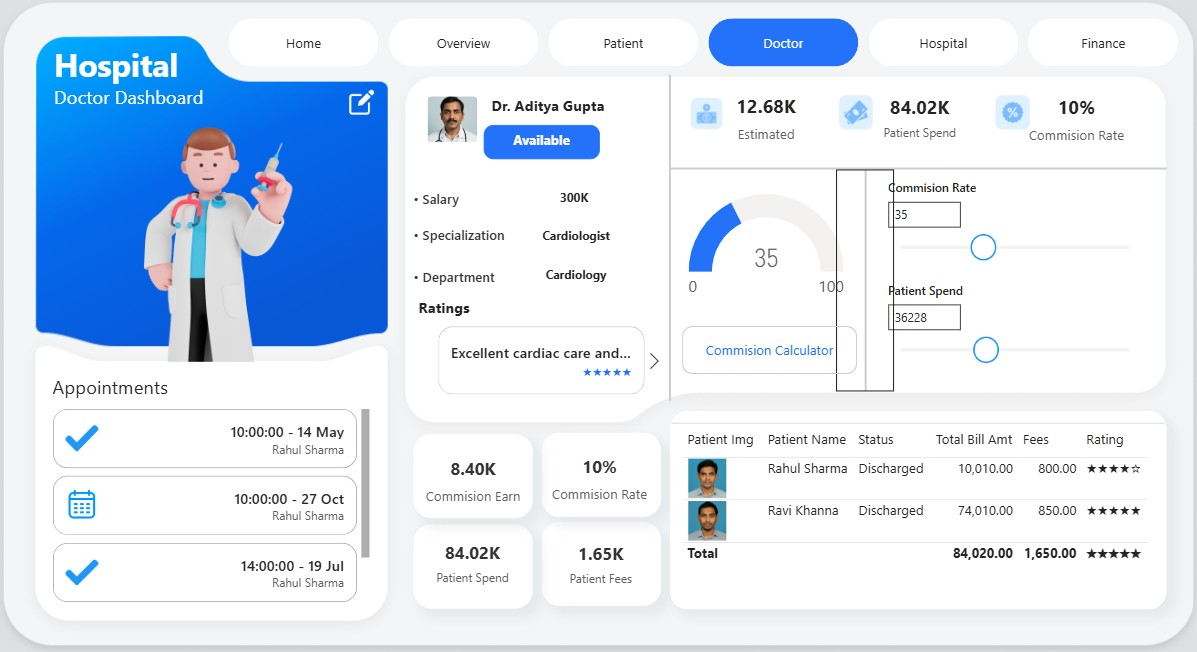

The dashboard page shown, as its layout file describes it:
{"tool":"powerbi","page":{"name":"Doctor","canvas":[1280,720],"ordinal":3},"visuals":[{"type":"shape","box":[580.6,558.4,121,85],"z":0},{"type":"shape","box":[580.6,467.2,121,85],"z":1000},{"type":"shape","box":[450.8,560.1,121,85],"z":2000},{"type":"shape","box":[450.8,468.8,121,85],"z":3000},{"type":"textbox","box":[81.7,66.7,165,78.3],"z":4000},{"type":"image","box":[370,120,56.7,25],"z":5000},{"type":"card","fields":{"Values":["_Measures.Total_Bill_Amt"]},"box":[461.2,563.8,100,70],"z":6000},{"type":"card","fields":{"Values":["_Measures.doctor_fees"]},"box":[590,565,100,68.8],"z":7000},{"type":"card","fields":{"Values":["_Measures.Dr_Commision_Amt"]},"box":[456.7,475.8,109.4,77.9],"z":8000},{"type":"card","fields":{"Values":["_Measures.Dr_Commision_Rate"]},"box":[585.7,475.7,108.6,74.3],"z":9000},{"type":"card","fields":{"Values":["Min(patient_info.doctor_name)"]},"box":[521.2,120,132.5,36.2],"z":10000},{"type":"card","fields":{"Values":["Min(patient_info.doctor_availability)"]},"box":[522.5,156.2,117.5,35],"z":11000},{"type":"shape","box":[450.8,210,105.8,41.7],"z":12000},{"type":"shape","box":[451.2,246.2,98.8,42.5],"z":13000},{"type":"shape","box":[451.2,288.8,96.2,42.5],"z":14000},{"type":"card","fields":{"Values":["Sum(patient_info.doctor_salary)"]},"box":[571.7,212.5,84.2,39.2],"z":15000},{"type":"card","fields":{"Values":["Min(patient_info.doctor_specialization)"]},"box":[555,246.2,121.2,48.8],"z":16000},{"type":"card","fields":{"Values":["Min(patient_info.doctor_department)"]},"box":[555,285,121.2,50],"z":17000},{"type":"image","box":[122.5,111.7,249.2,317.5],"z":18000},{"type":"advancedSlicerVisual","title":"Appointments","fields":{"Values":["appointment.Appointment_Time_Date"]},"box":[81.2,408.8,331.2,236.2],"z":19000},{"type":"cardVisual","fields":{"Data":["Min(patient_info.doctor_Img)"]},"box":[448.8,95,90,112.5],"z":21000},{"type":"advancedSlicerVisual","title":"Ratings","fields":{"Values":["patient_info.satisfaction_feedback"]},"box":[451.2,330.9,259.8,103.9],"z":22000},{"type":"tableEx","fields":{"Values":["patient_info.patient_Img","patient_info.patient_name","patient_info.patient_status","_Measures.Total_Bill_Amt","_Measures.doctor_fees","_Measures.Sum of satisfaction_rating star rating"]},"box":[711,445.4,502.6,200.4],"z":23000},{"type":"card","fields":{"Values":["_Measures.Estimate_Commision"]},"box":[741.4,110,134.3,75.7],"z":24000},{"type":"card","fields":{"Values":["_Measures.Dr_Commision_Rate"]},"box":[1058.6,112.9,128.6,70],"z":25000},{"type":"card","fields":{"Values":["_Measures.Total_Bill_Amt"]},"box":[900,112.7,128.2,70],"z":26000},{"type":"slicer","fields":{"Values":["Estimate_Patient_Amount.Estimate_Patient_Amount"]},"box":[918.8,310.4,280.3,98.4],"z":27000},{"type":"slicer","fields":{"Values":["Estimate_Commision_Rate.Estimate_Commision_Rate"]},"box":[918.8,206.5,280.3,88.9],"z":28000},{"type":"gauge","fields":{"Y":["Max(Estimate_Commision_Rate.Estimate_Commision_Rate)"],"MaxValue":["_Measures.Target"]},"box":[724.3,212.9,167.1,134.3],"z":29000},{"type":"shape","box":[711.4,174.3,502.9,52.9],"z":30000},{"type":"shape","box":[680.8,105,60,330],"z":31000},{"type":"shape","box":[878.6,201.4,60,224.3],"z":32000},{"type":"shape","box":[722.9,360,177.1,48.6],"z":33000},{"type":"image","box":[724.5,128.2,47.3,31.8],"z":34000},{"type":"image","box":[878.2,125.5,42.7,34.5],"z":35000},{"type":"image","box":[1037.3,125.5,40.9,34.5],"z":36000},{"type":"pageNavigator","box":[263.9,47.9,966.7,49.2],"z":37000}]}

Visuals, with their boxes on the page's 1280x720 design canvas (x1, y1, x2, y2). These are canvas units, not pixel positions in the 1197x652 screenshot, which may show the page scaled, cropped or inside an application window:
shape: bbox=[581, 558, 702, 643]
shape: bbox=[581, 467, 702, 552]
shape: bbox=[451, 560, 572, 645]
shape: bbox=[451, 469, 572, 554]
textbox: bbox=[82, 67, 247, 145]
image: bbox=[370, 120, 427, 145]
card - _Measures.Total_Bill_Amt: bbox=[461, 564, 561, 634]
card - _Measures.doctor_fees: bbox=[590, 565, 690, 634]
card - _Measures.Dr_Commision_Amt: bbox=[457, 476, 566, 554]
card - _Measures.Dr_Commision_Rate: bbox=[586, 476, 694, 550]
card - Min(patient_info.doctor_name): bbox=[521, 120, 654, 156]
card - Min(patient_info.doctor_availability): bbox=[522, 156, 640, 191]
shape: bbox=[451, 210, 557, 252]
shape: bbox=[451, 246, 550, 289]
shape: bbox=[451, 289, 547, 331]
card - Sum(patient_info.doctor_salary): bbox=[572, 212, 656, 252]
card - Min(patient_info.doctor_specialization): bbox=[555, 246, 676, 295]
card - Min(patient_info.doctor_department): bbox=[555, 285, 676, 335]
image: bbox=[122, 112, 372, 429]
"Appointments" advancedSlicerVisual: bbox=[81, 409, 412, 645]
cardVisual - Min(patient_info.doctor_Img): bbox=[449, 95, 539, 208]
"Ratings" advancedSlicerVisual: bbox=[451, 331, 711, 435]
tableEx - patient_info.patient_Img x patient_info.patient_name: bbox=[711, 445, 1214, 646]
card - _Measures.Estimate_Commision: bbox=[741, 110, 876, 186]
card - _Measures.Dr_Commision_Rate: bbox=[1059, 113, 1187, 183]
card - _Measures.Total_Bill_Amt: bbox=[900, 113, 1028, 183]
slicer - Estimate_Patient_Amount.Estimate_Patient_Amount: bbox=[919, 310, 1199, 409]
slicer - Estimate_Commision_Rate.Estimate_Commision_Rate: bbox=[919, 206, 1199, 295]
gauge - Max(Estimate_Commision_Rate.Estimate_Commision_Rate) x _Measures.Target: bbox=[724, 213, 891, 347]
shape: bbox=[711, 174, 1214, 227]
shape: bbox=[681, 105, 741, 435]
shape: bbox=[879, 201, 939, 426]
shape: bbox=[723, 360, 900, 409]
image: bbox=[724, 128, 772, 160]
image: bbox=[878, 126, 921, 160]
image: bbox=[1037, 126, 1078, 160]
pageNavigator: bbox=[264, 48, 1231, 97]
